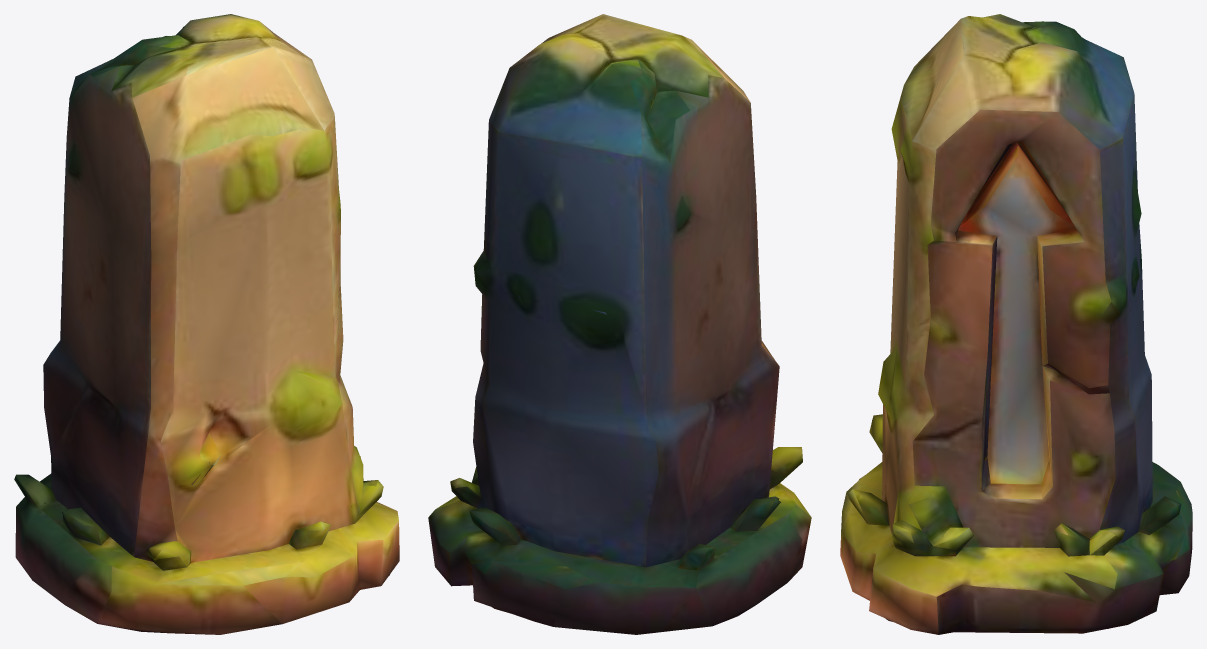
The model's file is sz-waystone.glb.
3 renders of one model, left to right at view 1: azimuth 30°, elevation 25°; view 2: azimuth 150°, elevation 25°; view 3: azimuth 270°, elevation 25°, orthographic.
Visible parts, largest first — view 1: geometry_0; view 2: geometry_0; view 3: geometry_0.
Part boxes in pixels (bbox=[...]): geometry_0: bbox=[14, 14, 399, 634]; geometry_0: bbox=[428, 14, 811, 634]; geometry_0: bbox=[840, 14, 1192, 634].
Size of the model in its own units: 0.6145 by 1 by 0.5999.
1 material, 1 textured.
